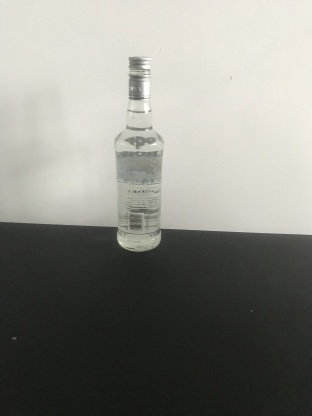nakretka: (127, 54, 152, 101)
